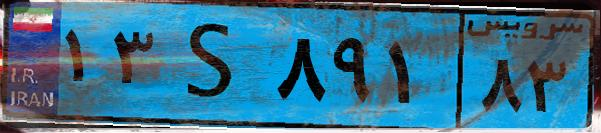1: (385, 28, 445, 110), (57, 26, 110, 100)
3: (525, 38, 570, 115), (110, 28, 158, 98)
8: (270, 28, 330, 110), (475, 38, 525, 113)
9: (330, 28, 385, 110)
S: (158, 12, 270, 120)
